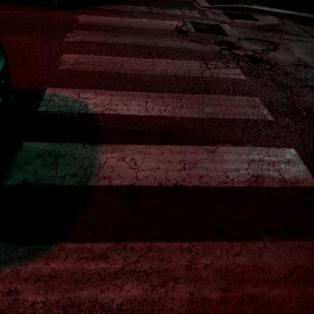Paso de Cebra: (0, 84, 314, 198)
